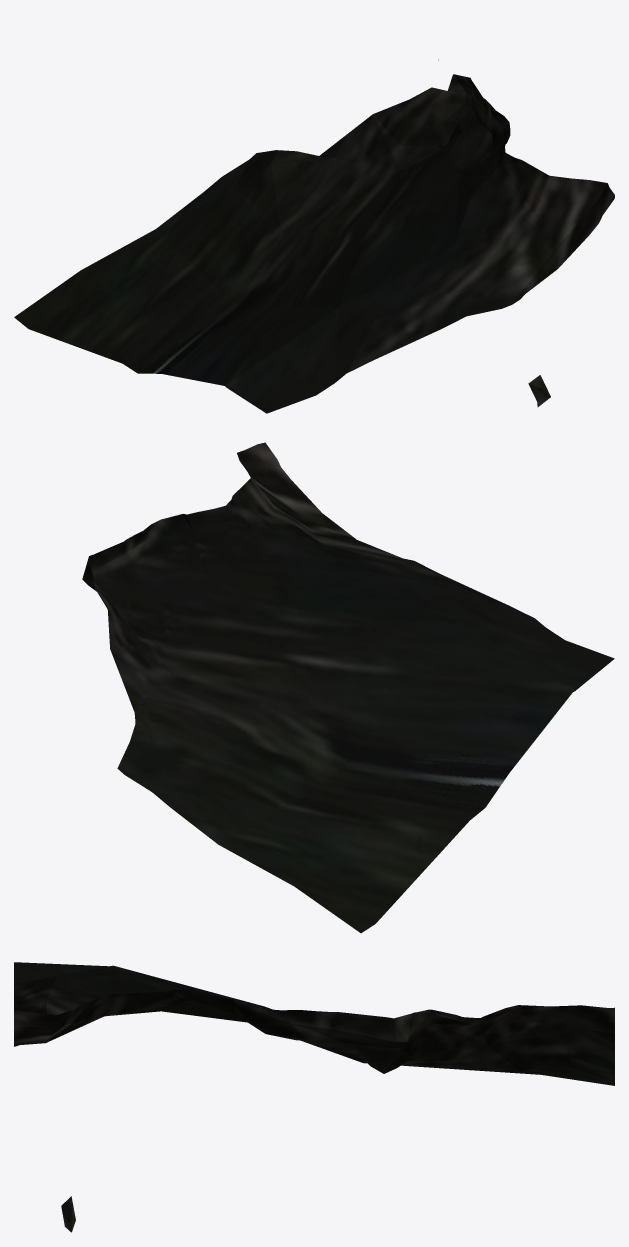
3 views of the same model, one above another, from view 1: azimuth 30°, elevation 25°; view 2: azimuth 150°, elevation 25°; view 3: azimuth 270°, elevation 25° (orthographic). The views are drawn at different scales.
Size of the model in its own units: 0.7002 by 0.402 by 0.8374.
Materials: 2 (2 with a texture image).
